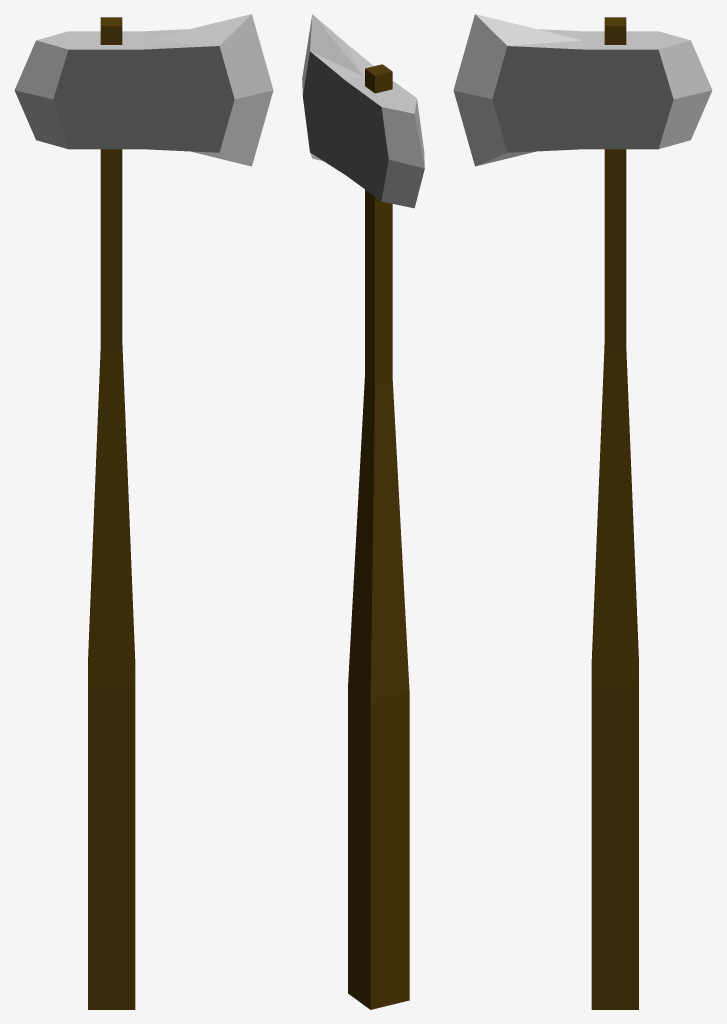
The model's file is Axe.fbx.
The picture shows the model from 3 angles, left to right: view 1: azimuth 90°, elevation 25°; view 2: azimuth 210°, elevation 25°; view 3: azimuth 270°, elevation 25°; orthographic projection. The views are drawn at different scales.
Parts seen in each view (by area): view 1: Axe; view 2: Axe; view 3: Axe.
Boxes of the visible parts, <box> form: Axe: <box>14,14,273,1009</box>; Axe: <box>302,14,424,1009</box>; Axe: <box>453,14,712,1009</box>.
Bounding box in the file's own units: 0.044 × 1.01 × 0.24.
